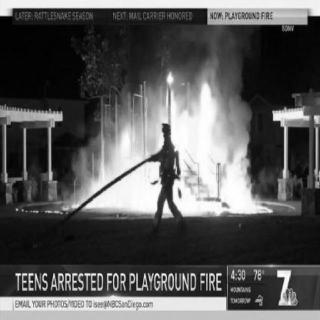Fire: (83, 84, 267, 217), (15, 202, 94, 214)
